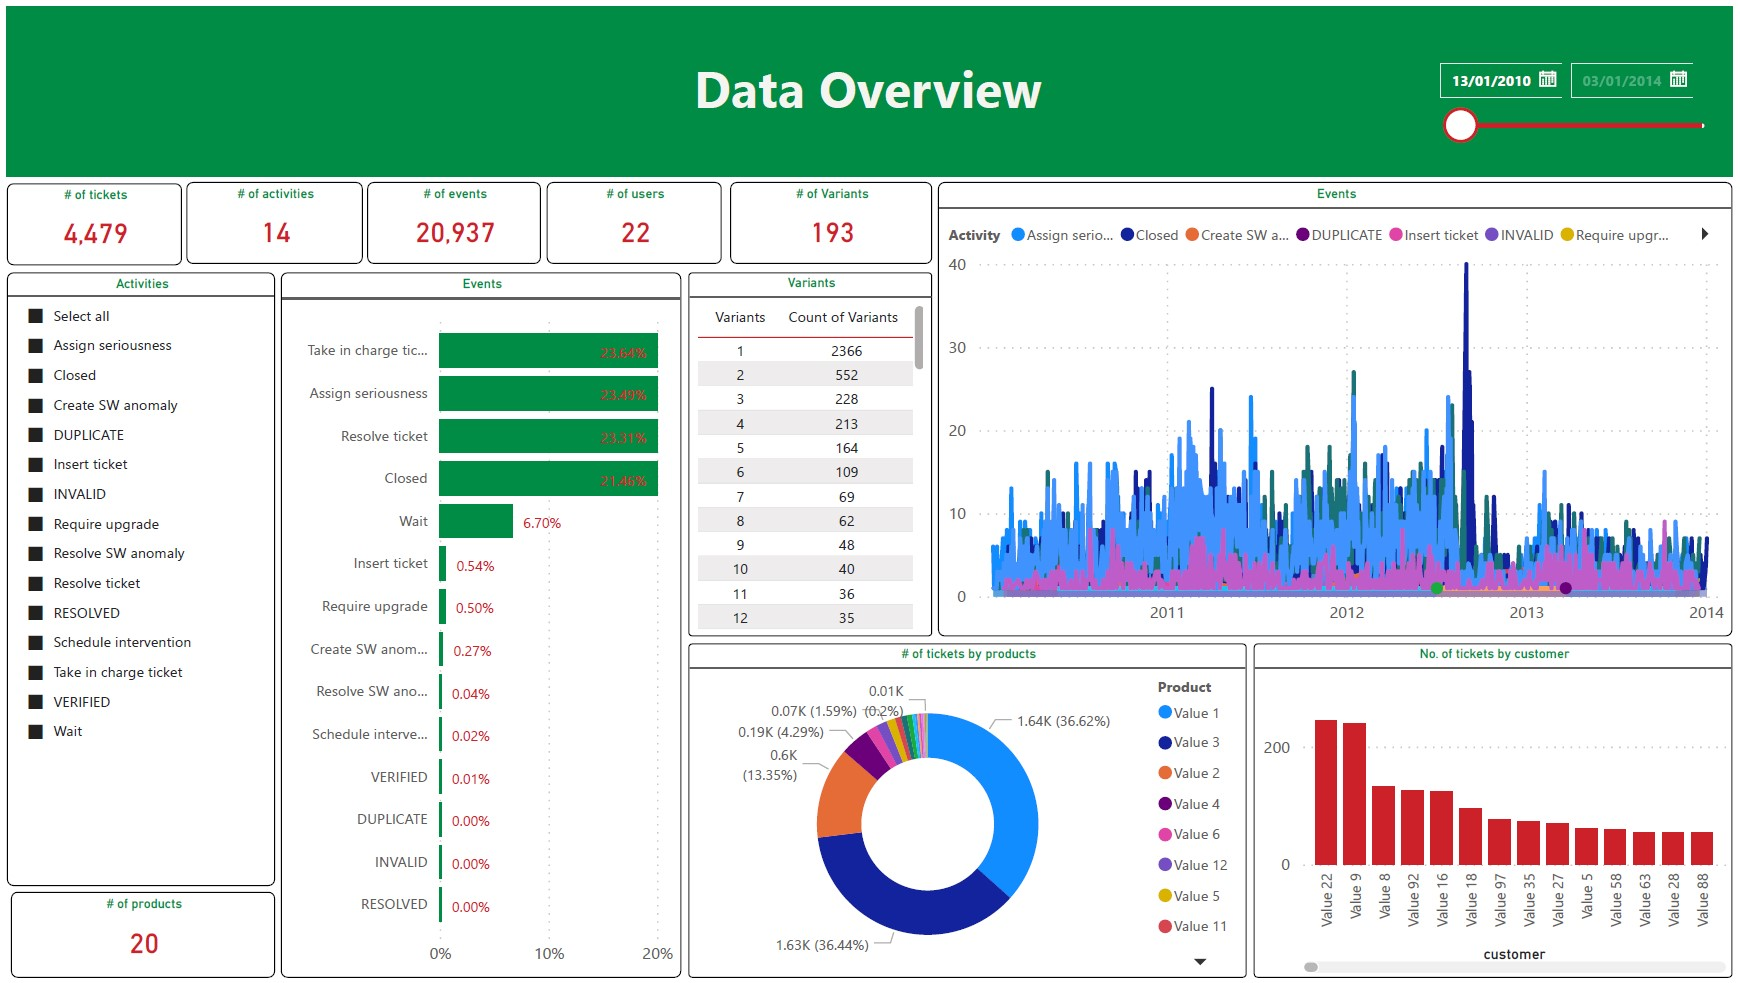

This screenshot's page, from the dashboard's own definition file:
{"tool":"powerbi","page":{"name":"Overview","canvas":[1280,720],"ordinal":1},"visuals":[{"type":"shape","box":[1,0,1279,126.4],"z":0},{"type":"textbox","box":[495.5,30.2,287.2,67.2],"z":1000},{"type":"card","title":"# of tickets","fields":{"Values":["Count(Helpdesk_log.Case ID)"]},"box":[1.2,130.6,130.2,61.2],"z":2000},{"type":"card","title":"# of activities","fields":{"Values":["Count(Helpdesk_log.Activity)"]},"box":[134.5,130.2,130.2,61.2],"z":3000},{"type":"card","title":"# of events","fields":{"Values":["CountNonNull(Helpdesk_log.Activity)"]},"box":[268.1,130.2,129.3,61.2],"z":4000},{"type":"slicer","title":"Activities","fields":{"Values":["Helpdesk_log.Activity"]},"box":[0.9,196.5,199.1,455.1],"z":5000},{"type":"areaChart","title":"Events","fields":{"Category":["Helpdesk_log.Complete Timestamp.Variation.Date Hierarchy.Year","Helpdesk_log.Complete Timestamp.Variation.Date Hierarchy.Quarter","Helpdesk_log.Complete Timestamp.Variation.Date Hierarchy.Month","Helpdesk_log.Complete Timestamp.Variation.Date Hierarchy.Day"],"Y":["CountNonNull(Helpdesk_log.Activity)"],"Series":["Helpdesk_log.Activity"]},"box":[691.3,130.2,588.7,337],"z":6000},{"type":"card","title":"# of users","fields":{"Values":["Count(Helpdesk_log.Resource)"]},"box":[400.8,130.2,130.2,61.2],"z":7000},{"type":"clusteredBarChart","title":"Events","fields":{"Category":["Helpdesk_log.Activity"],"Y":["CountNonNull(Helpdesk_log.Case ID)"]},"box":[204.3,197.4,296.5,522.3],"z":8000},{"type":"columnChart","title":"No. of tickets by customer","fields":{"Category":["Distinct_log.customer"],"Y":["CountNonNull(Distinct_log.Case ID)"]},"box":[925.4,471.9,354.5,248.1],"z":9000},{"type":"donutChart","title":"# of tickets by products","fields":{"Y":["CountNonNull(Distinct_log (2).Case ID)"],"Category":["Distinct_log (2).product"]},"box":[506.1,471.9,414.4,248.1],"z":10000},{"type":"tableEx","title":"Variants","fields":{"Values":["Distinct_log (2).Variants","CountNonNull(Distinct_log (2).Variants)"]},"box":[506.1,196.8,180.9,270.2],"z":11000},{"type":"card","title":"# of Variants","fields":{"Values":["Count(Distinct_log (2).Variants)"]},"box":[537,130.2,150,61.2],"z":12000},{"type":"slicer","title":"Time Period","fields":{"Values":["Helpdesk_log.Complete Timestamp"]},"box":[1049.9,17.2,230.1,93.1],"z":13000},{"type":"card","title":"# of products","fields":{"Values":["Count(Helpdesk_log.product)"]},"box":[4.3,655.9,195.7,63.8],"z":13001}]}

Visuals, with their boxes in screenshot pixels (x1, y1, x2, y2), scaled from the page's 1280x720 canvas onto the 1740x983 screenshot:
shape: 1,0,1739,173
textbox: 674,41,1064,133
"# of tickets" card: 2,178,179,262
"# of activities" card: 183,178,360,261
"# of events" card: 364,178,540,261
"Activities" slicer: 1,268,272,890
"Events" areaChart: 940,178,1739,638
"# of users" card: 545,178,722,261
"Events" clusteredBarChart: 278,270,681,982
"No. of tickets by customer" columnChart: 1258,644,1739,982
"# of tickets by products" donutChart: 688,644,1251,982
"Variants" tableEx: 688,269,934,638
"# of Variants" card: 730,178,934,261
"Time Period" slicer: 1427,23,1739,151
"# of products" card: 6,895,272,982
